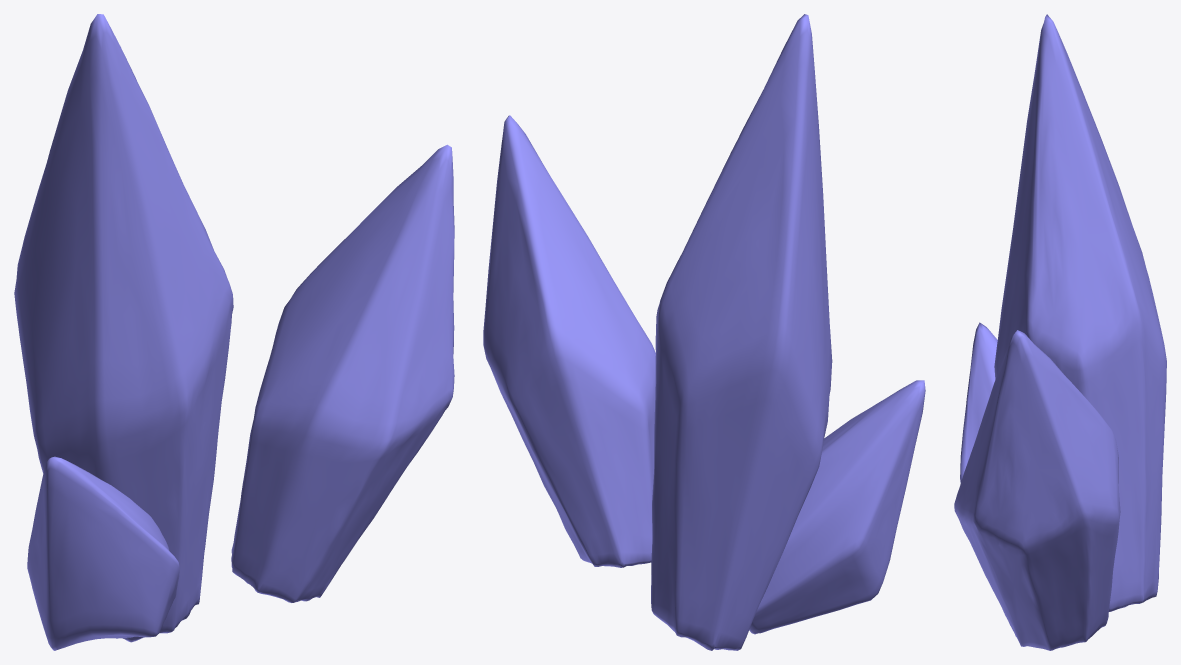
The model's file is crystals.fbx.
3 renders of one model, left to right at view 1: azimuth 30°, elevation 25°; view 2: azimuth 150°, elevation 25°; view 3: azimuth 270°, elevation 25°, orthographic. The views are drawn at different scales.
Visible parts, largest first — view 1: Cylinder, Cylinder.006, Cylinder.004; view 2: Cylinder, Cylinder.006, Cylinder.004; view 3: Cylinder, Cylinder.006, Cylinder.004.
Part boxes in pixels (x1,y1,x2,y2): Cylinder: (14, 14, 233, 642); Cylinder.006: (231, 144, 454, 602); Cylinder.004: (27, 456, 179, 650); Cylinder: (651, 14, 832, 650); Cylinder.006: (483, 115, 655, 567); Cylinder.004: (749, 380, 925, 634); Cylinder: (994, 14, 1166, 611); Cylinder.006: (954, 330, 1120, 650); Cylinder.004: (960, 322, 997, 482).
Bounding box in the file's own units: 97.71 × 144 × 48.53.
